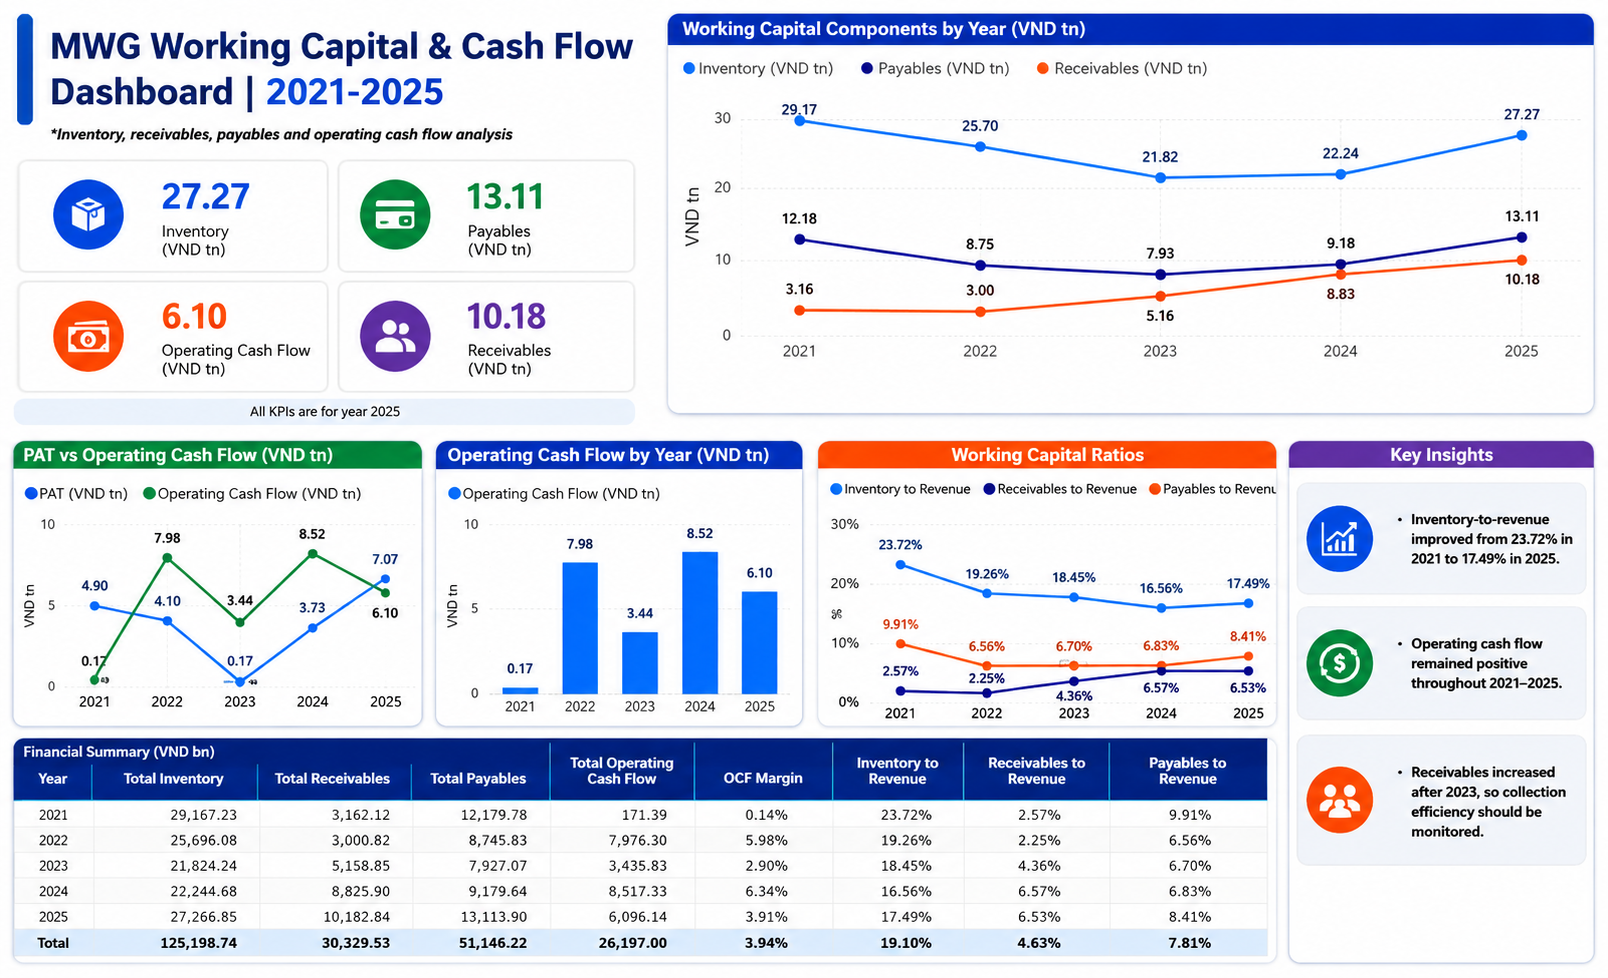

This screenshot's page, from the dashboard's own definition file:
{"tool":"powerbi","page":{"name":"Working Capital & Cash Flow","canvas":[1280,720],"ordinal":1},"visuals":[{"type":"cardVisual","fields":{"Data":["fact_financials.Inventory (VND tn)"]},"box":[0,112.9,238.6,102.9],"z":0},{"type":"cardVisual","fields":{"Data":["fact_financials.Receivables (VND tn)"]},"box":[211,210,212,103],"z":1000},{"type":"cardVisual","fields":{"Data":["fact_financials.Payables (VND tn)"]},"box":[207,116,216,100],"z":2000},{"type":"cardVisual","fields":{"Data":["fact_financials.Operating Cash Flow (VND tn)"]},"box":[0,210,228.6,102.9],"z":3000},{"type":"lineChart","fields":{"Category":["fact_financials.year"],"Y":["fact_financials.Inventory (VND tn)","fact_financials.Payables (VND tn)","fact_financials.Receivables (VND tn)"]},"box":[463.8,7.5,807.5,311.2],"z":4000},{"type":"clusteredColumnChart","fields":{"Category":["fact_financials.year"],"Y":["fact_financials.Operating Cash Flow (VND tn)"]},"box":[345.7,327.1,382.9,258.6],"z":5000},{"type":"lineChart","fields":{"Category":["fact_financials.year"],"Y":["fact_financials.PAT (VND tn)","fact_financials.Operating Cash Flow (VND tn)"]},"box":[0,331.4,325.7,251.4],"z":6000},{"type":"textbox","box":[1030,582.5,250,137.5],"z":7000},{"type":"lineChart","fields":{"Category":["fact_financials.year"],"Y":["fact_financials.Inventory to Revenue","fact_financials.Receivables to Revenue","fact_financials.Payables to Revenue"]},"box":[728.8,312.5,551.2,251.2],"z":8000},{"type":"tableEx","fields":{"Values":["fact_financials.year","fact_financials.Total Inventory","fact_financials.Total Receivables","fact_financials.Total Payables","fact_financials.Total Operating Cash Flow","fact_financials.OCF Margin","fact_financials.Inventory to Revenue","fact_financials.Receivables to Revenue","fact_financials.Payables to Revenue"]},"box":[0,585.7,1030,134.3],"z":9000},{"type":"textbox","box":[0,0,464,87],"z":10000},{"type":"textbox","box":[0,80,422.9,45.7],"z":11000}]}

Visuals, with their boxes on the page's 1280x720 design canvas (x1, y1, x2, y2). These are canvas units, not pixel positions in the 1608x978 screenshot, which may show the page scaled, cropped or inside an application window:
cardVisual - fact_financials.Inventory (VND tn): [left=0, top=113, right=239, bottom=216]
cardVisual - fact_financials.Receivables (VND tn): [left=211, top=210, right=423, bottom=313]
cardVisual - fact_financials.Payables (VND tn): [left=207, top=116, right=423, bottom=216]
cardVisual - fact_financials.Operating Cash Flow (VND tn): [left=0, top=210, right=229, bottom=313]
lineChart - fact_financials.year x fact_financials.Inventory (VND tn): [left=464, top=8, right=1271, bottom=319]
clusteredColumnChart - fact_financials.year x fact_financials.Operating Cash Flow (VND tn): [left=346, top=327, right=729, bottom=586]
lineChart - fact_financials.year x fact_financials.PAT (VND tn): [left=0, top=331, right=326, bottom=583]
textbox: [left=1030, top=582, right=1280, bottom=720]
lineChart - fact_financials.year x fact_financials.Inventory to Revenue: [left=729, top=312, right=1280, bottom=564]
tableEx - fact_financials.year x fact_financials.Total Inventory: [left=0, top=586, right=1030, bottom=720]
textbox: [left=0, top=0, right=464, bottom=87]
textbox: [left=0, top=80, right=423, bottom=126]
